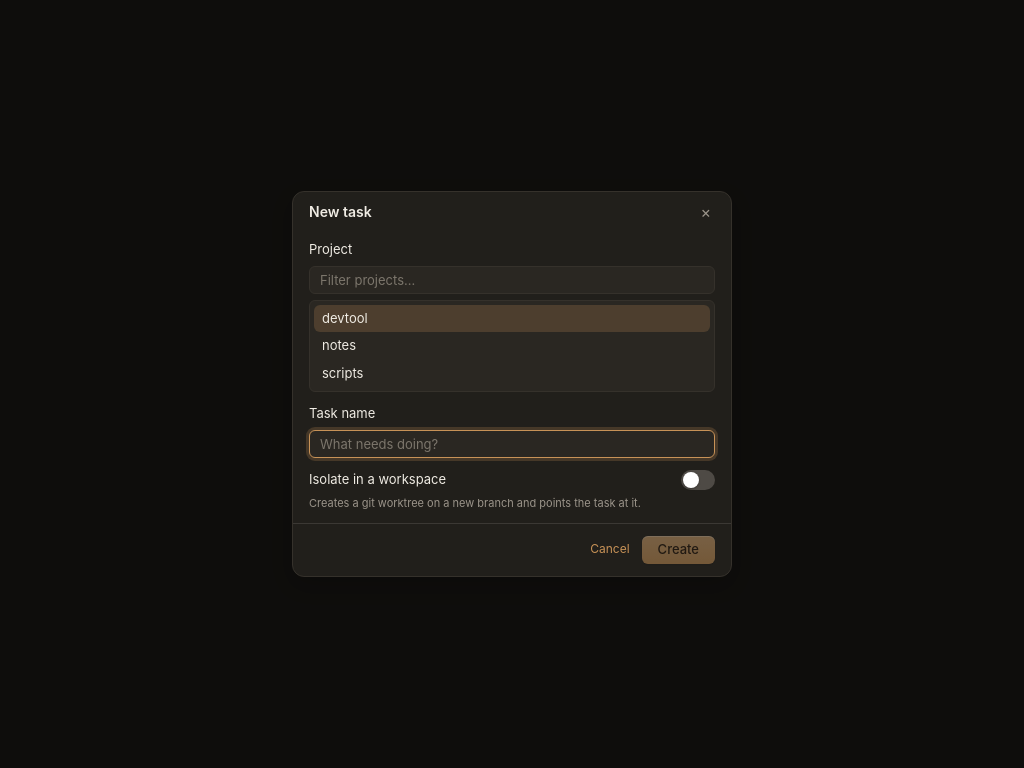
it: NewTaskModal › cancelling an in-flight workspace creation › names the orphan when it cannot be removed instead of dropping it
Type "Fix the badge" into the field with placeholder "What needs doing?" at (512, 444), box top-left (309, 430), bottom-right (715, 458)
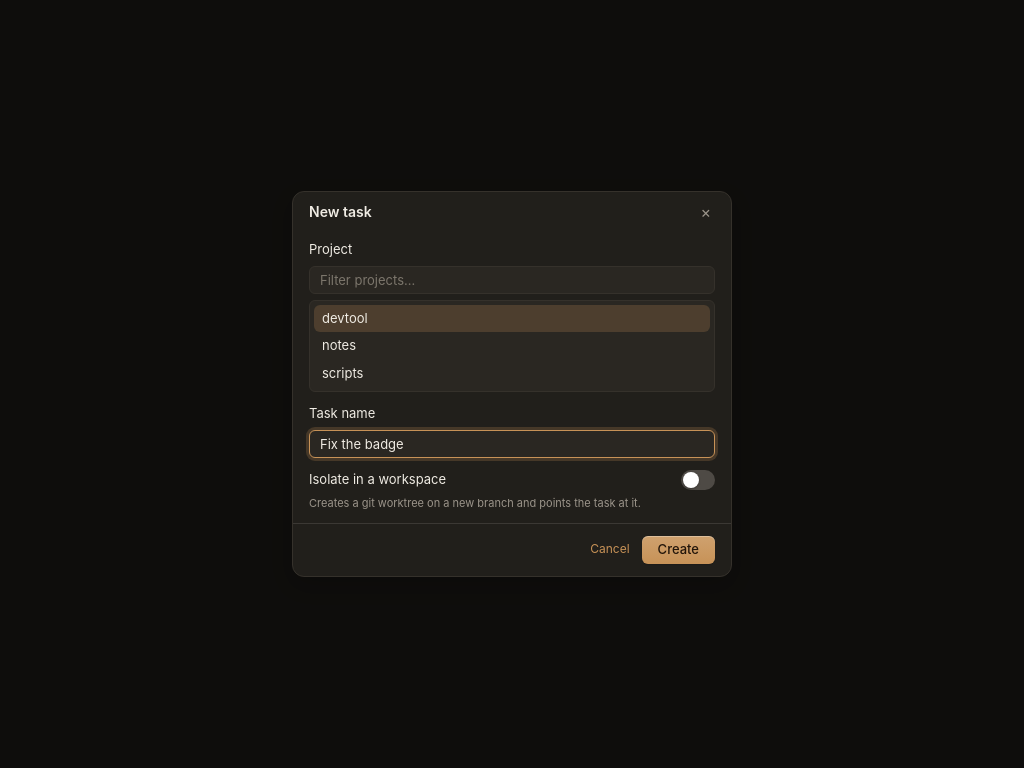
Click the switch at (698, 480), box top-left (681, 470), bottom-right (715, 490)
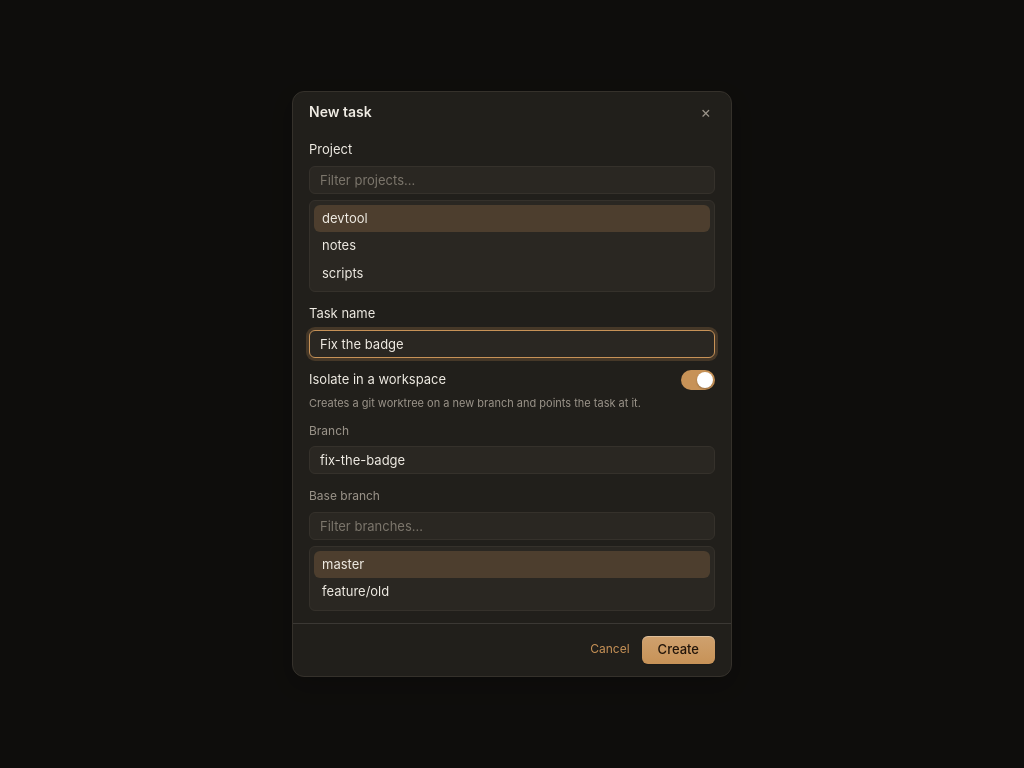
Click the button "Create" at (678, 650), box top-left (642, 636), bottom-right (715, 664)
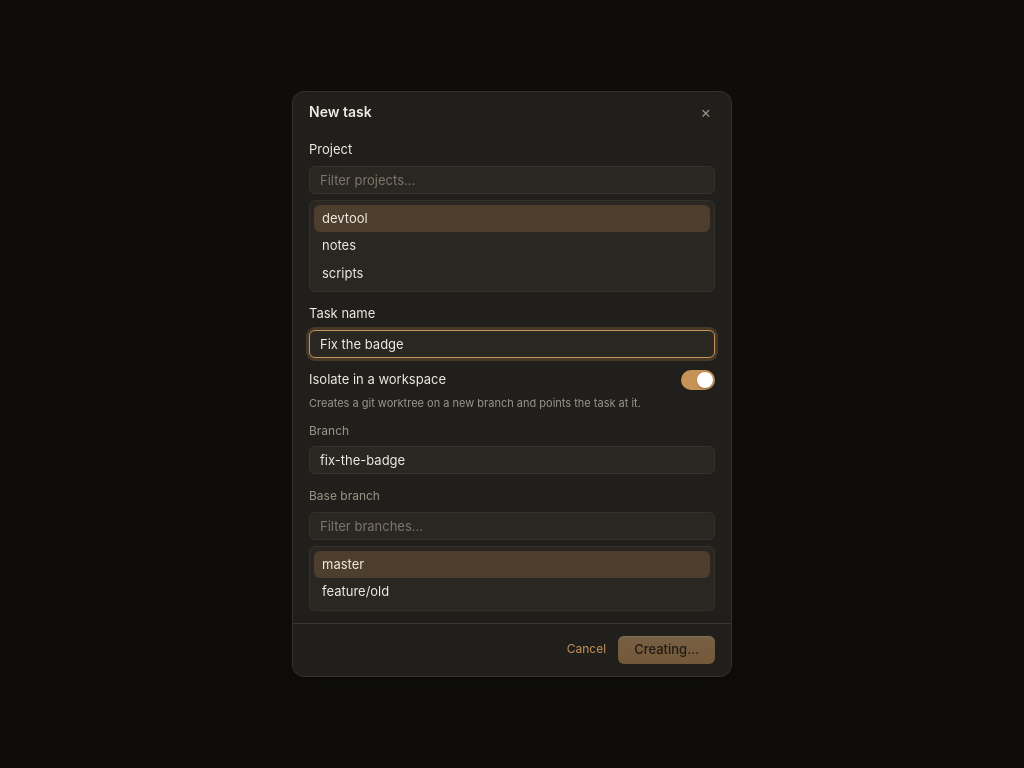
Expected: the button "Creating…" is shown, top-left (618, 636), bottom-right (715, 664)
Press Escape
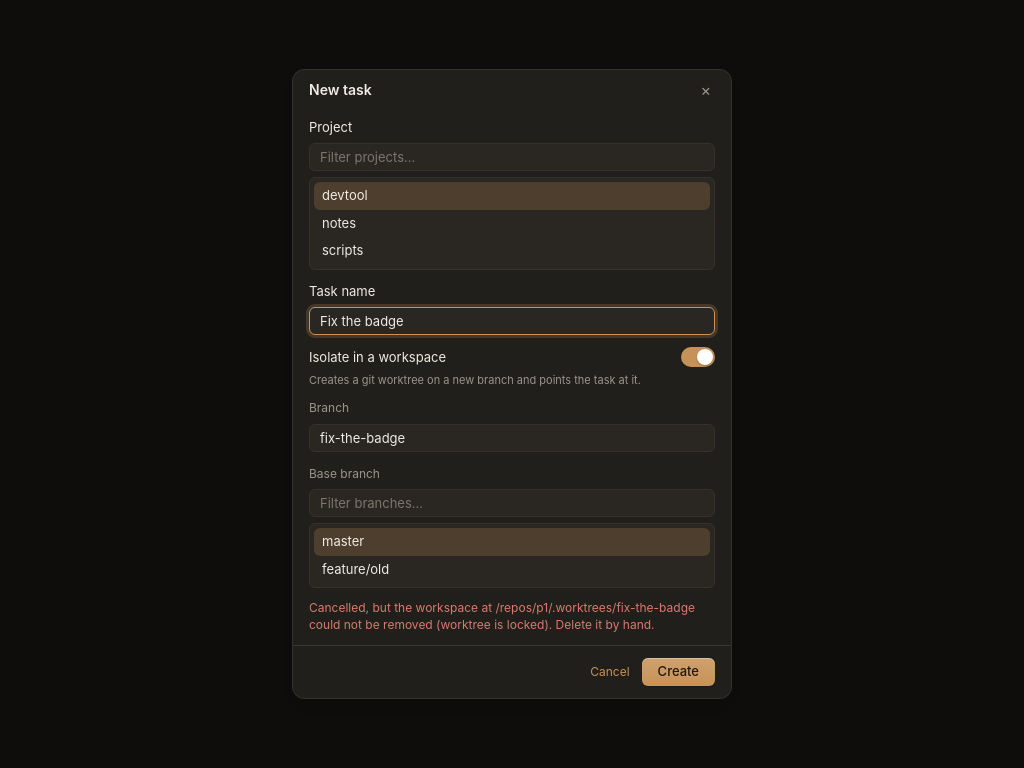
Expected: the text "worktree is locked" is shown, top-left (309, 600), bottom-right (695, 632)
